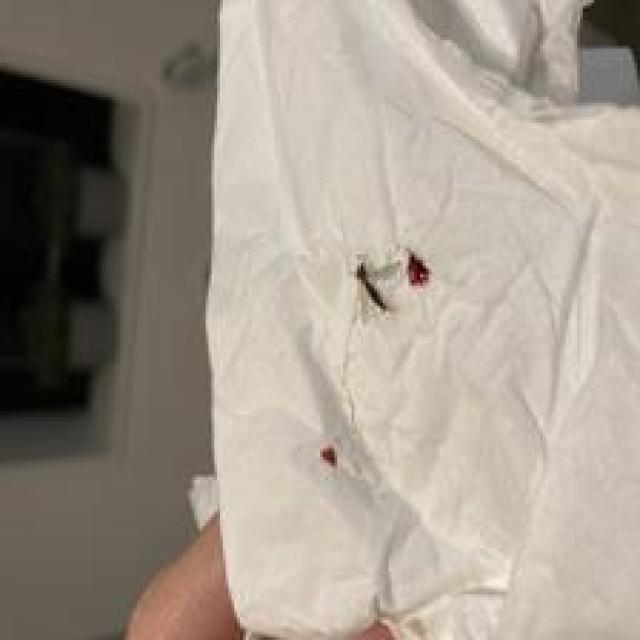Culex: (354, 243, 432, 314)
